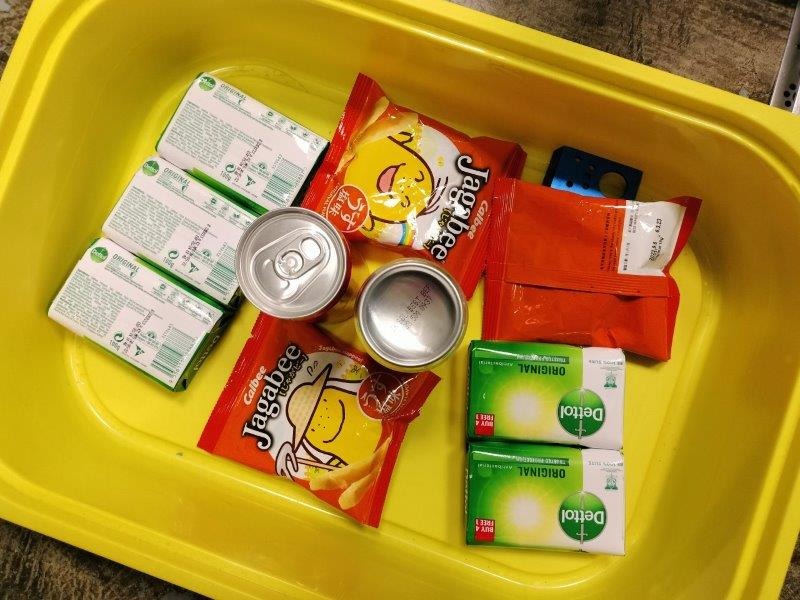Coke: (352, 258, 470, 371), (235, 206, 350, 318)
Dettol: (46, 237, 227, 386), (154, 71, 329, 215), (104, 155, 265, 305), (467, 446, 626, 552), (471, 346, 622, 445)
Jagabee: (201, 308, 443, 531), (299, 71, 528, 301), (487, 180, 703, 363)
